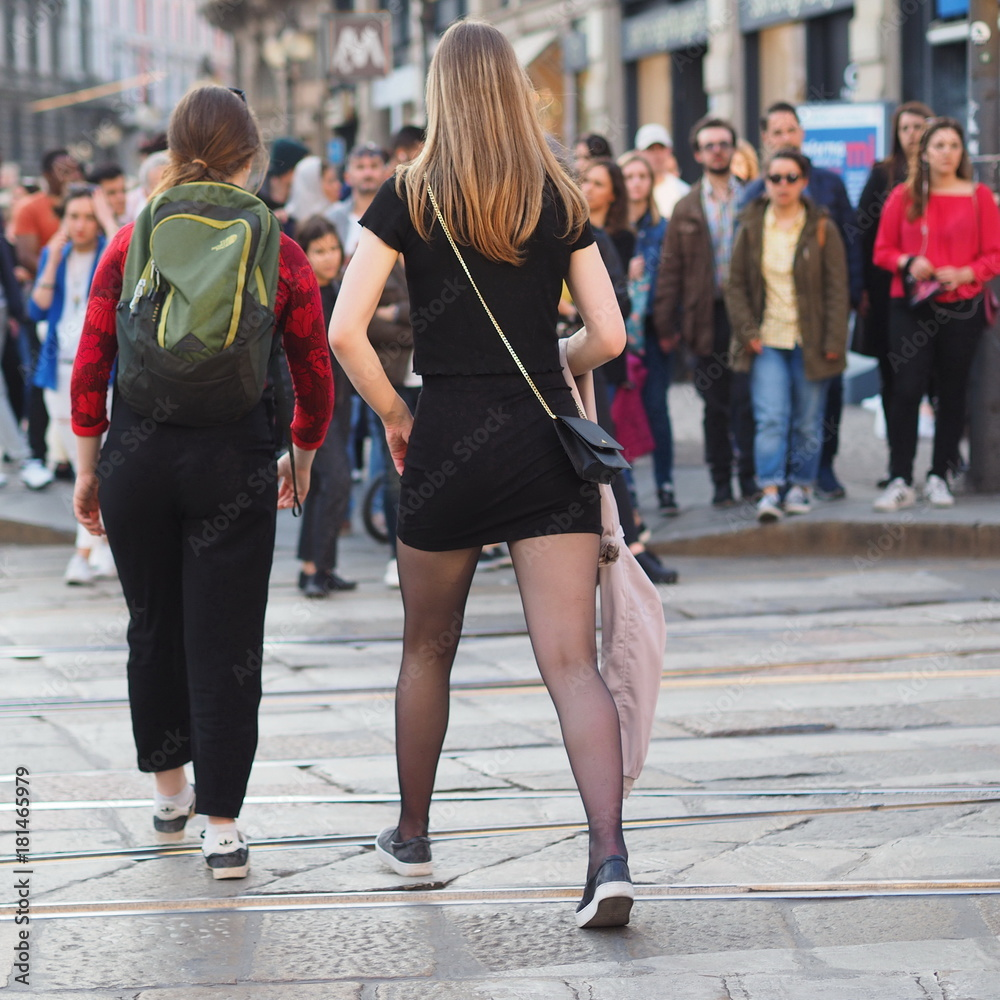person: (332, 16, 656, 932), (69, 81, 334, 888), (884, 120, 994, 506), (729, 156, 828, 525), (658, 118, 748, 502), (44, 185, 121, 589), (853, 101, 928, 356), (765, 96, 854, 237)
